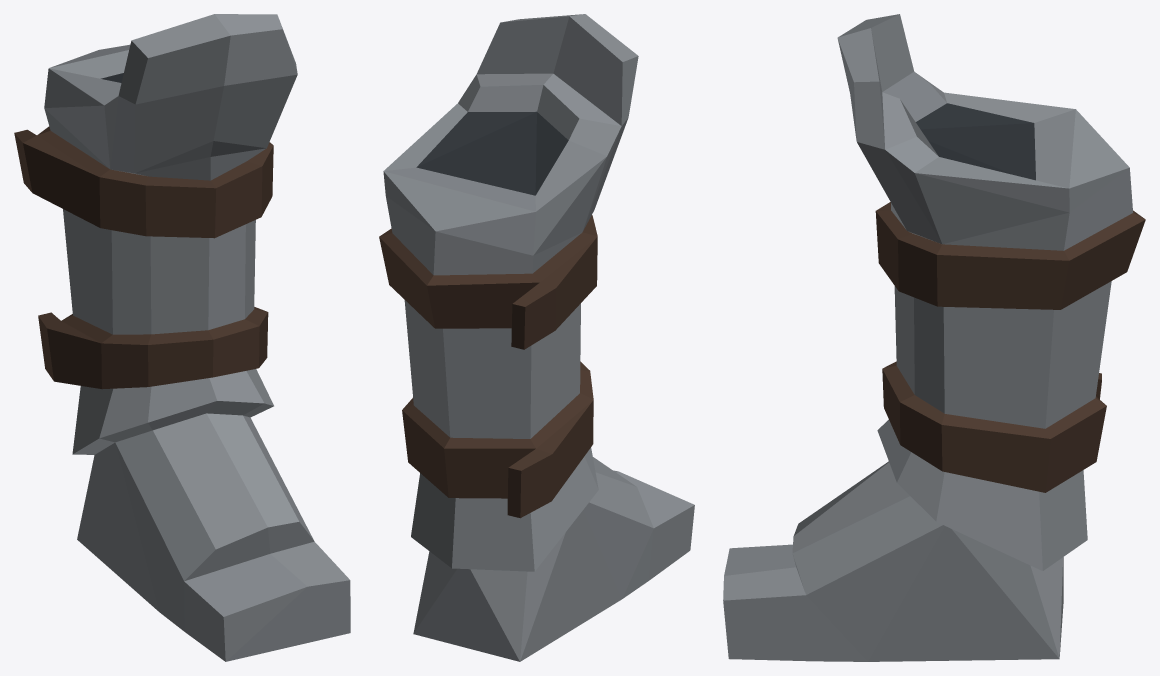
Rendered from Chr_LegLeft_Male_13_Static.fbx.
3 renders of one model, left to right at view 1: azimuth 30°, elevation 25°; view 2: azimuth 150°, elevation 25°; view 3: azimuth 270°, elevation 25°, orthographic. The views are drawn at different scales.
Visible parts, largest first — view 1: Chr_LegLeft_Male_13_Static; view 2: Chr_LegLeft_Male_13_Static; view 3: Chr_LegLeft_Male_13_Static.
Boxes of the visible parts, box(x1,y1,x2,y2) form: Chr_LegLeft_Male_13_Static: box(14, 14, 350, 661); Chr_LegLeft_Male_13_Static: box(379, 14, 694, 661); Chr_LegLeft_Male_13_Static: box(723, 14, 1145, 661).
Size of the model in its own units: 0.1626 by 0.4845 by 0.3099.
